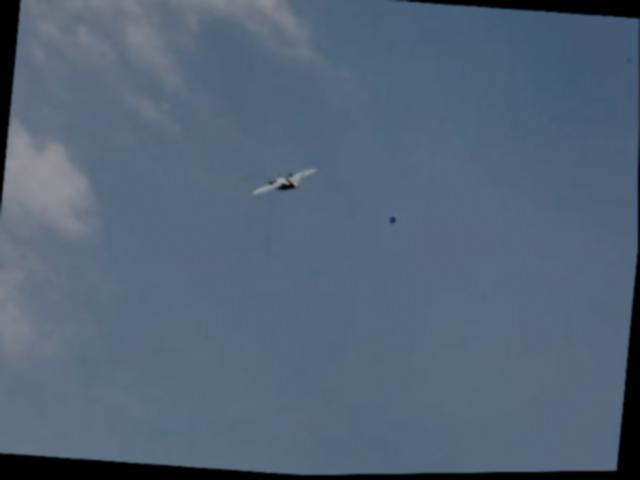uav: (250, 161, 317, 201)
